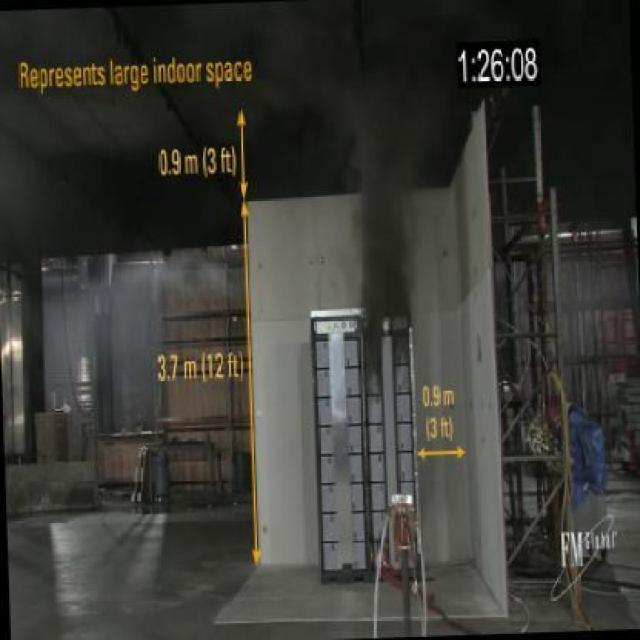fire: (330, 59, 444, 290)
